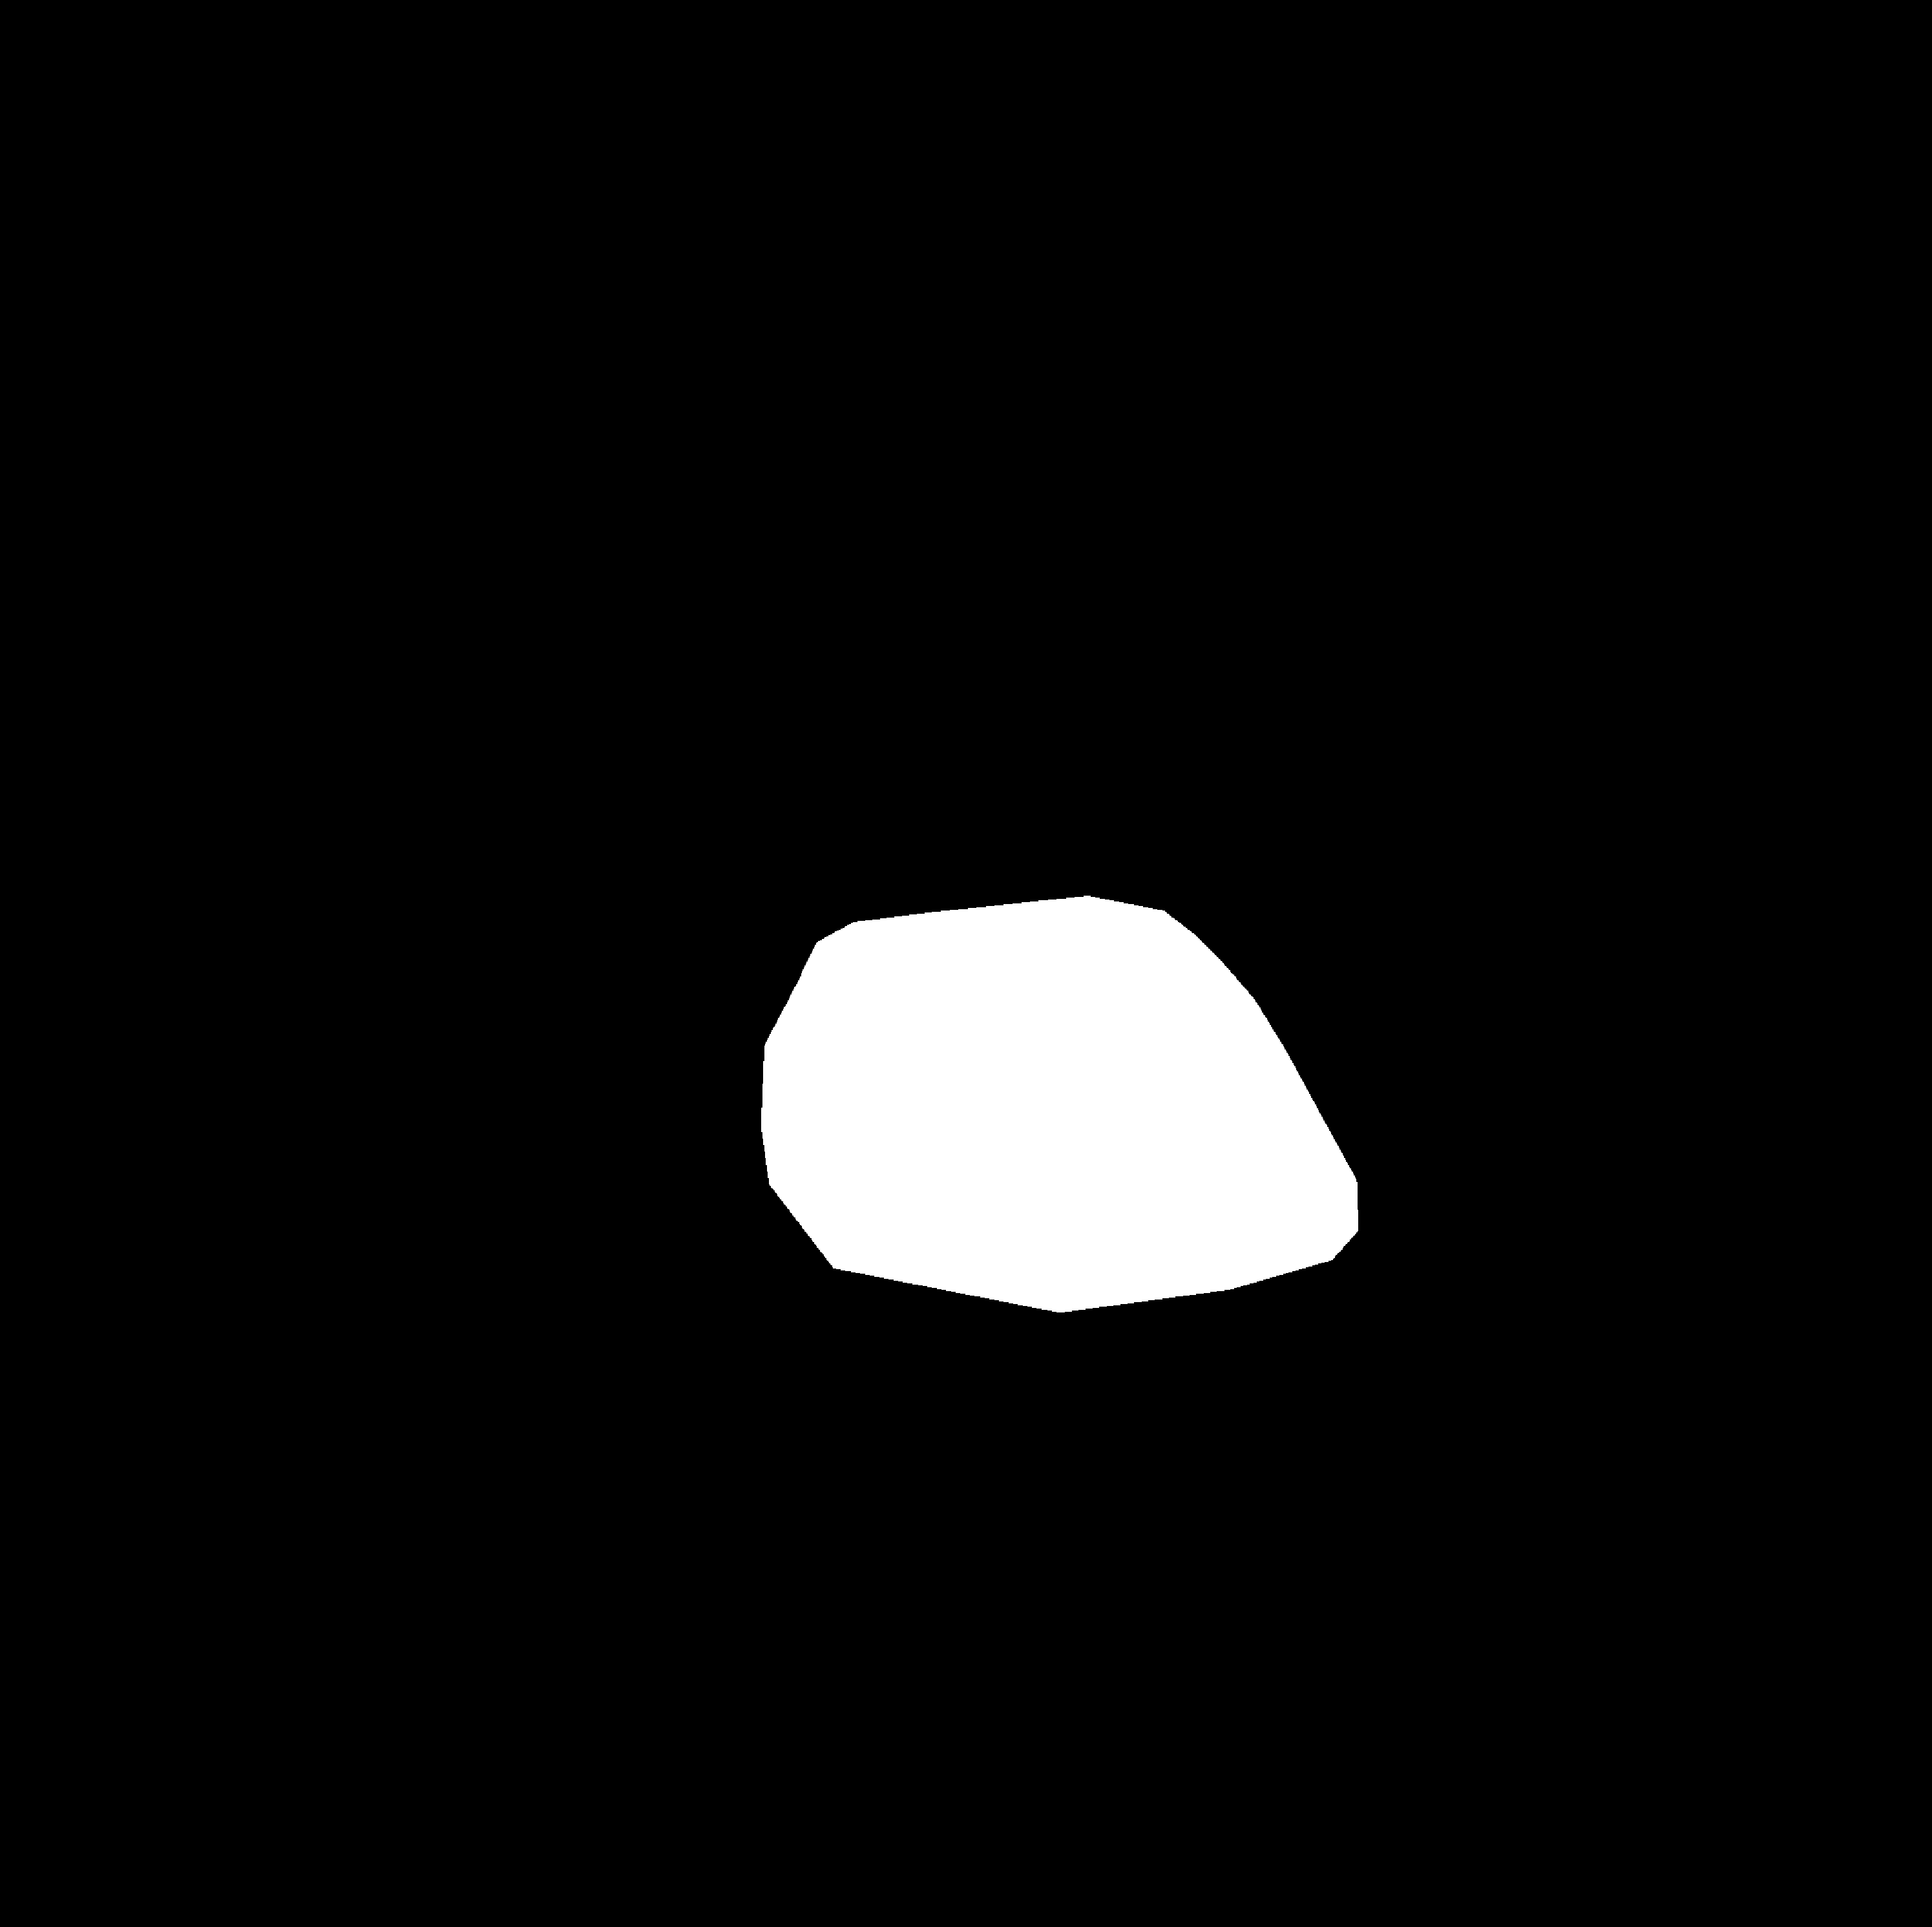heart: (759, 951, 1360, 1364)
left_lung: (348, 270, 880, 1357)
right_lung: (1013, 332, 1570, 1383)
